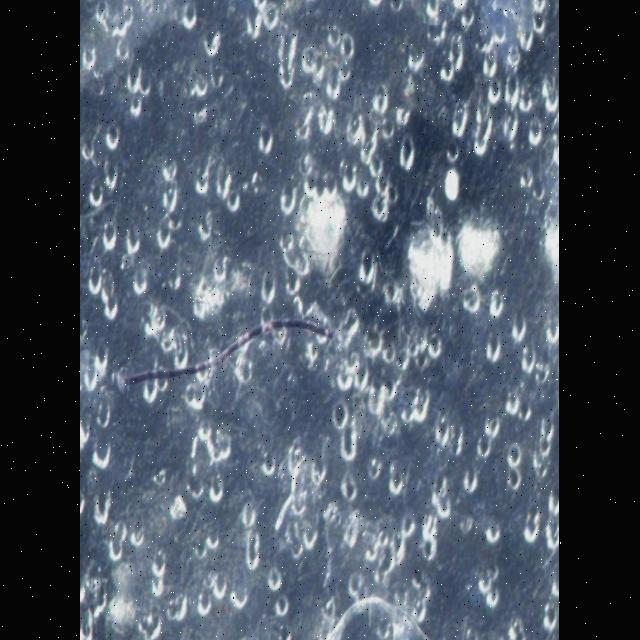Fibre: (122, 294, 346, 436)
